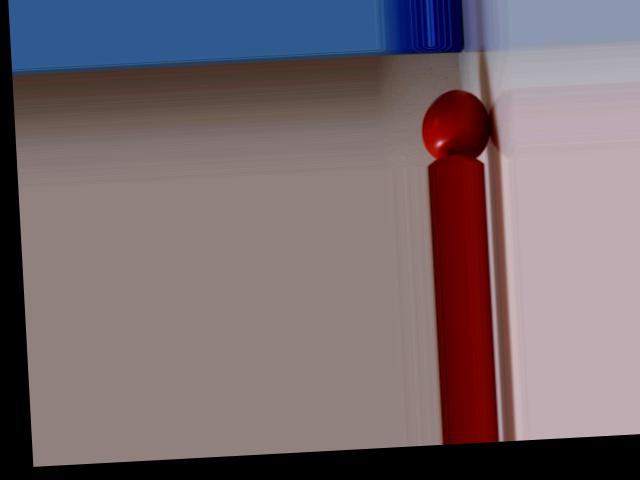tomato: (420, 88, 491, 159)
